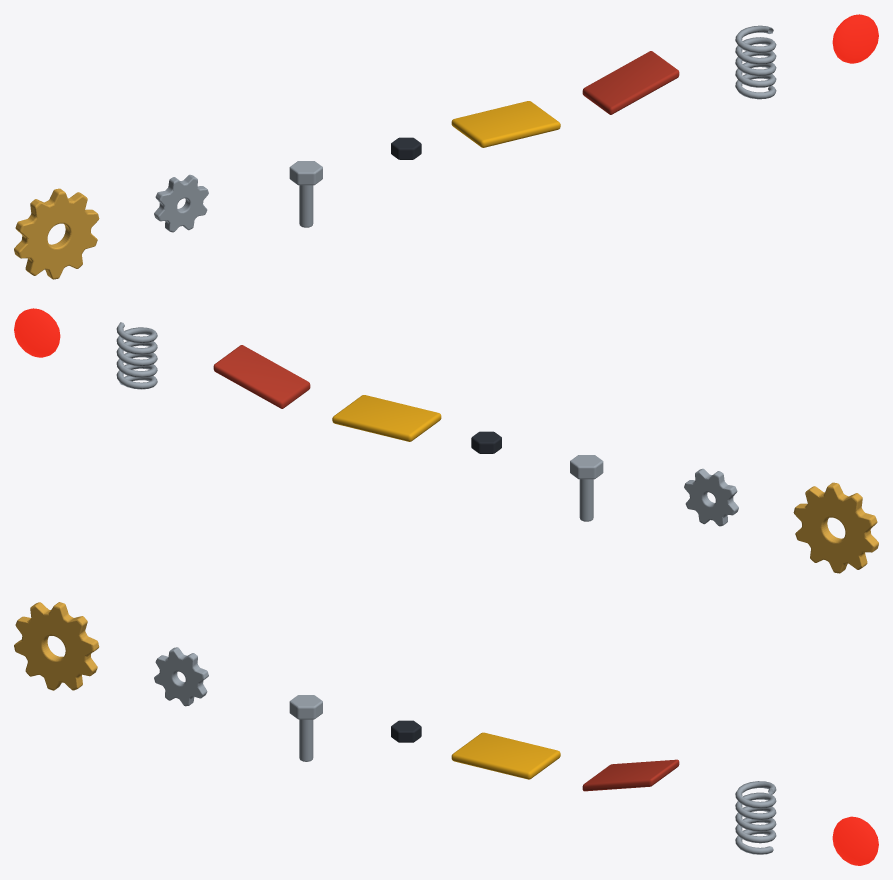
Rendered from scrap_bits.glb.
3 views of the same model, one above another, from view 1: azimuth 30°, elevation 25°; view 2: azimuth 150°, elevation 25°; view 3: azimuth 330°, elevation 25° (orthographic).
Visible parts, largest first — view 1: sprocket, plate_bent, plate, spring, sprocket_small, eye_lens, bolt, nut; view 2: sprocket, plate_bent, plate, spring, sprocket_small, eye_lens, bolt, nut; view 3: sprocket, plate, spring, sprocket_small, plate_bent, eye_lens, bolt, nut.
Boxes of the visible parts, x1,y1,x2,y2 form: sprocket: (14,188,99,279); plate_bent: (582,51,679,114); plate: (451,101,560,147); spring: (735,25,776,99); sprocket_small: (154,174,208,232); eye_lens: (832,14,878,63); bolt: (289,161,322,227); nut: (391,137,421,159); sprocket: (793,482,878,573); plate_bent: (213,345,310,408); plate: (332,395,441,441); spring: (116,322,157,389); sprocket_small: (684,468,738,526); eye_lens: (14,308,60,357); bolt: (570,455,603,521); nut: (471,431,501,453); sprocket: (14,602,99,690); plate: (451,732,560,779); spring: (735,781,776,854); sprocket_small: (154,647,208,706); plate_bent: (582,759,679,791); eye_lens: (832,816,878,865); bolt: (289,695,322,761); nut: (391,720,421,742).
Size of the model in its own units: 3.45 by 0.3645 by 0.22.
